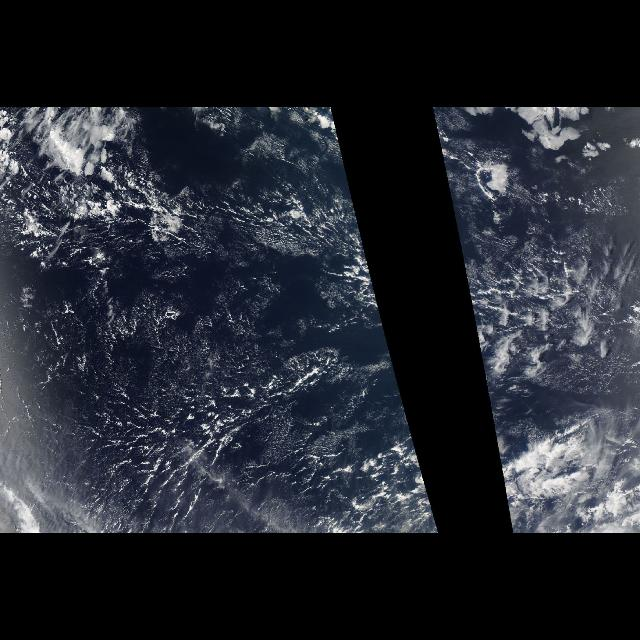Flower: (488, 409, 640, 533), (432, 108, 620, 204)
Sugar: (10, 287, 428, 533), (469, 206, 639, 397)
